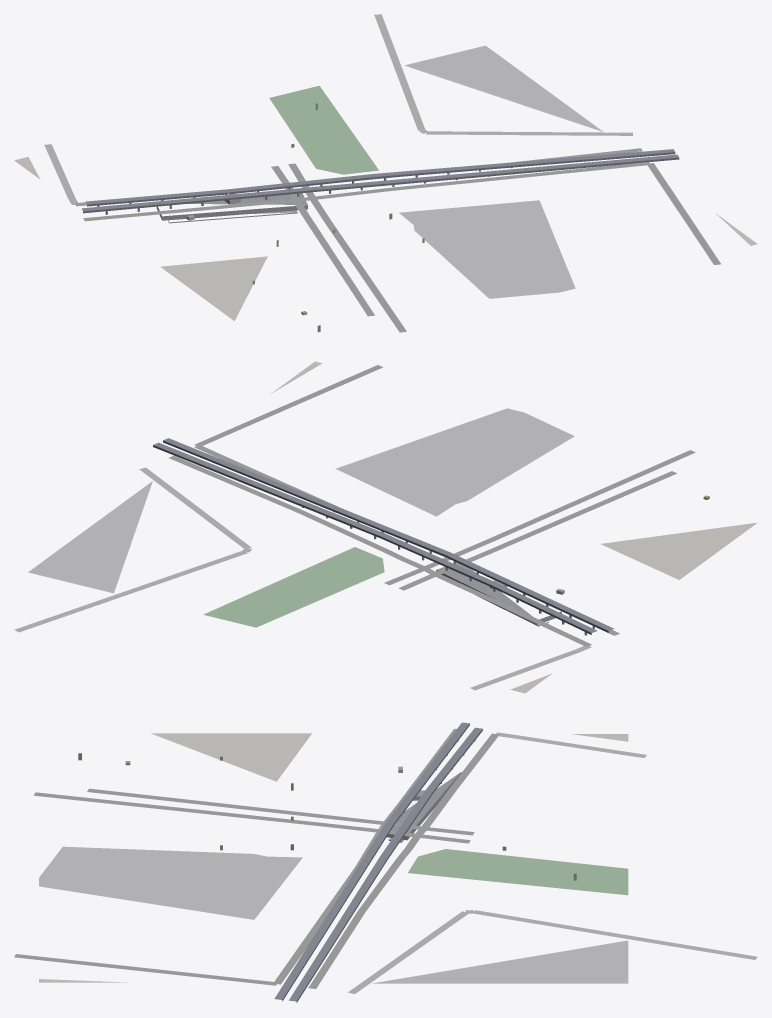
3 renders of one model, top to bottom at view 1: azimuth 30°, elevation 25°; view 2: azimuth 150°, elevation 25°; view 3: azimuth 270°, elevation 25°, orthographic. The views are drawn at different scales.
Size of the model in its own units: 547 by 22.06 by 631.
